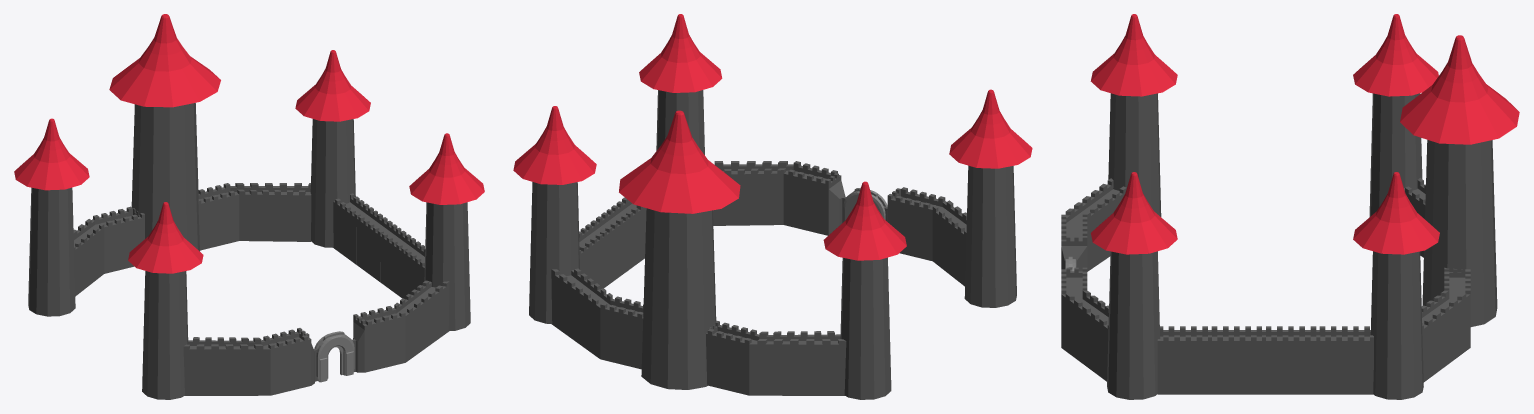
Rendered from Castle.glb.
3 views of the same model, side by side, from view 1: azimuth 30°, elevation 25°; view 2: azimuth 150°, elevation 25°; view 3: azimuth 270°, elevation 25° (orthographic). The views are drawn at different scales.
Parts seen in each view (by area): view 1: TowersBack, TowersFront, WallsFront, TowersBackCenter, WallsBack, WallsSide.001, WallsSide.002, WallsSide.003, Arch, WallsSide; view 2: TowersBack, TowersBackCenter, TowersFront, WallsBack, WallsFront, WallsSide.002, WallsSide.001, WallsSide.003, Arch; view 3: TowersFront, TowersBack, TowersBackCenter, WallsFront, WallsBack, WallsSide.001, WallsSide.003, WallsSide, WallsSide.002.
Boxes of the visible parts, x1,y1,x2,y2 form: TowersBack: (14,50,370,316); TowersFront: (128,133,484,399); WallsFront: (183,280,449,395); TowersBackCenter: (109,14,220,251); WallsBack: (73,183,311,296); WallsSide.001: (380,227,420,298); WallsSide.002: (356,210,397,281); WallsSide.003: (333,193,373,264); Arch: (314,331,354,382); WallsSide: (403,245,425,299); TowersBack: (513,106,906,399); TowersBackCenter: (619,110,740,389); TowersFront: (639,14,1032,307); WallsBack: (551,268,846,395); WallsFront: (713,161,966,286); WallsSide.002: (580,212,628,287); WallsSide.001: (606,197,646,269); WallsSide.003: (579,231,602,289); Arch: (843,187,887,221); TowersFront: (1090,14,1177,399); TowersBack: (1353,14,1439,399); TowersBackCenter: (1400,35,1519,326); WallsFront: (1061,178,1126,381); WallsBack: (1404,178,1470,382); WallsSide.001: (1211,326,1265,394); WallsSide.003: (1319,326,1373,394); WallsSide: (1157,326,1211,394); WallsSide.002: (1266,326,1320,394).
Bounding box in the file's own units: 81.75 × 53.61 × 81.3.
